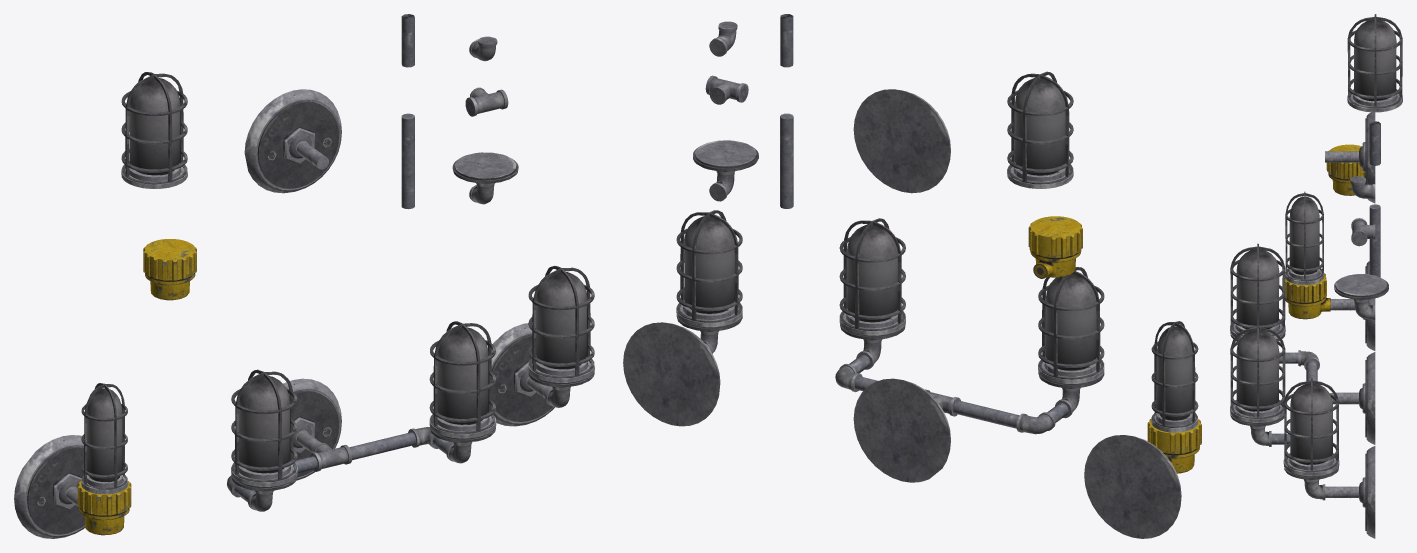
File: industrial_caged_sconce.glb
3 renders of one model, left to right at view 1: azimuth 30°, elevation 25°; view 2: azimuth 150°, elevation 25°; view 3: azimuth 270°, elevation 25°, orthographic. The views are drawn at different scales.
Parts seen in each view (by area): view 1: industrial_caged_sconce_b; view 2: industrial_caged_sconce_b; view 3: industrial_caged_sconce_b.
Boxes of the visible parts, left/top/right/bottom form: industrial_caged_sconce_b: left=14, top=14, right=594, bottom=538; industrial_caged_sconce_b: left=623, top=14, right=1201, bottom=538; industrial_caged_sconce_b: left=1230, top=14, right=1402, bottom=538.
Size of the model in its own units: 1.21 by 0.9128 by 0.3895.
Materials: 1 (1 with a texture image).
